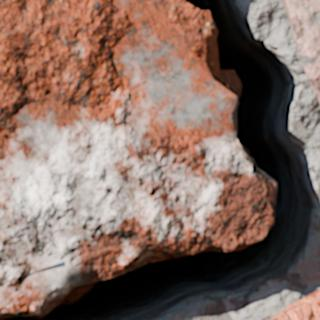brick: (283, 0, 319, 101), (271, 290, 319, 319)
broken_brick: (0, 0, 275, 317)
crack: (0, 0, 318, 319)
